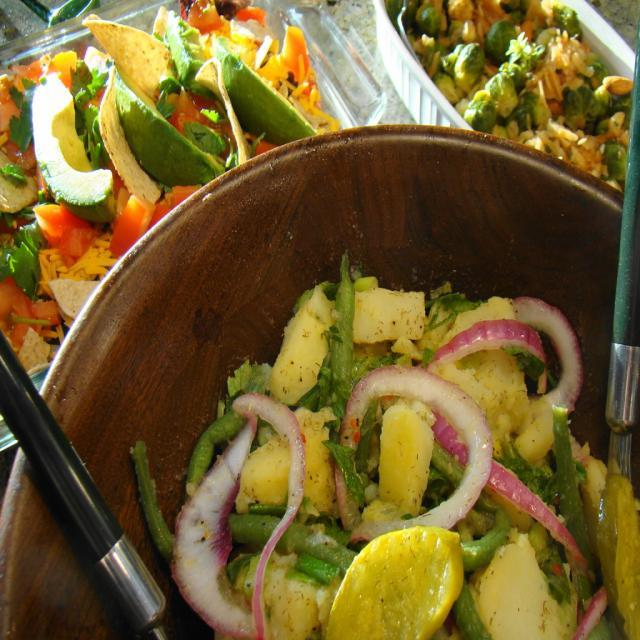Salad: (129, 259, 640, 639), (0, 0, 346, 376), (385, 0, 633, 195)
